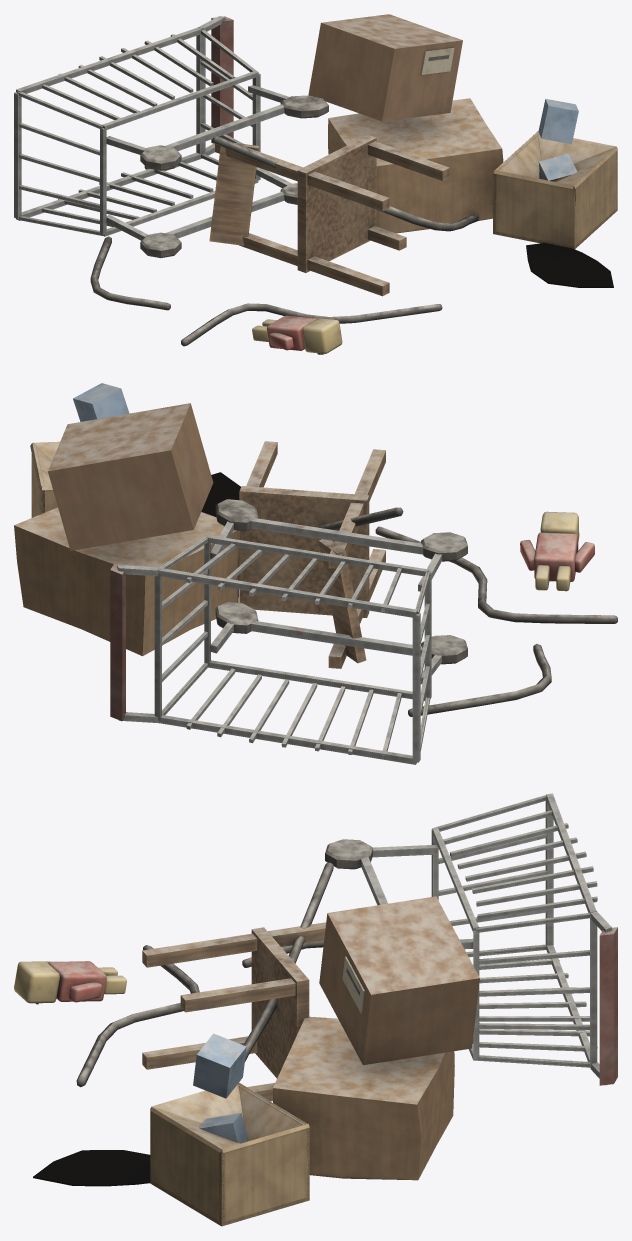
Rendered from junk_pile.fbx.
3 renders of one model, top to bottom at view 1: azimuth 30°, elevation 25°; view 2: azimuth 150°, elevation 25°; view 3: azimuth 270°, elevation 25°, orthographic. The views are drawn at different scales.
Parts seen in each view (by area): view 1: Body; view 2: Body; view 3: Body.
Part boxes in pixels (left/top/right/bottom): Body: left=14, top=14, right=617, bottom=354; Body: left=14, top=383, right=617, bottom=764; Body: left=14, top=793, right=617, bottom=1226.
Size of the model in its own units: 8.05 by 2.79 by 7.3.
Materials: 1 (1 with a texture image).
